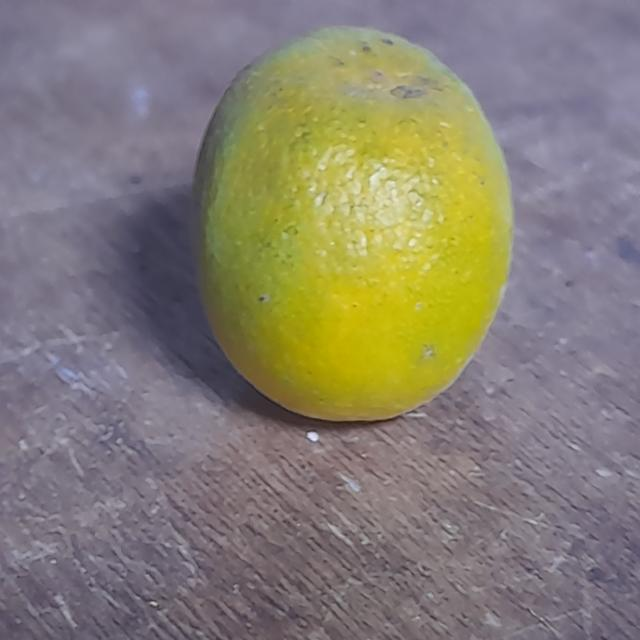greening: (185, 14, 518, 438)
